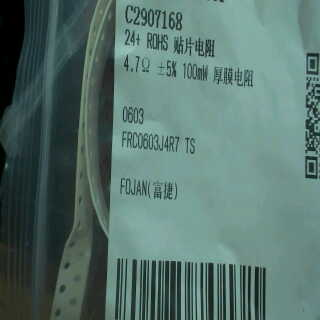4.7R: (120, 54, 153, 78)
